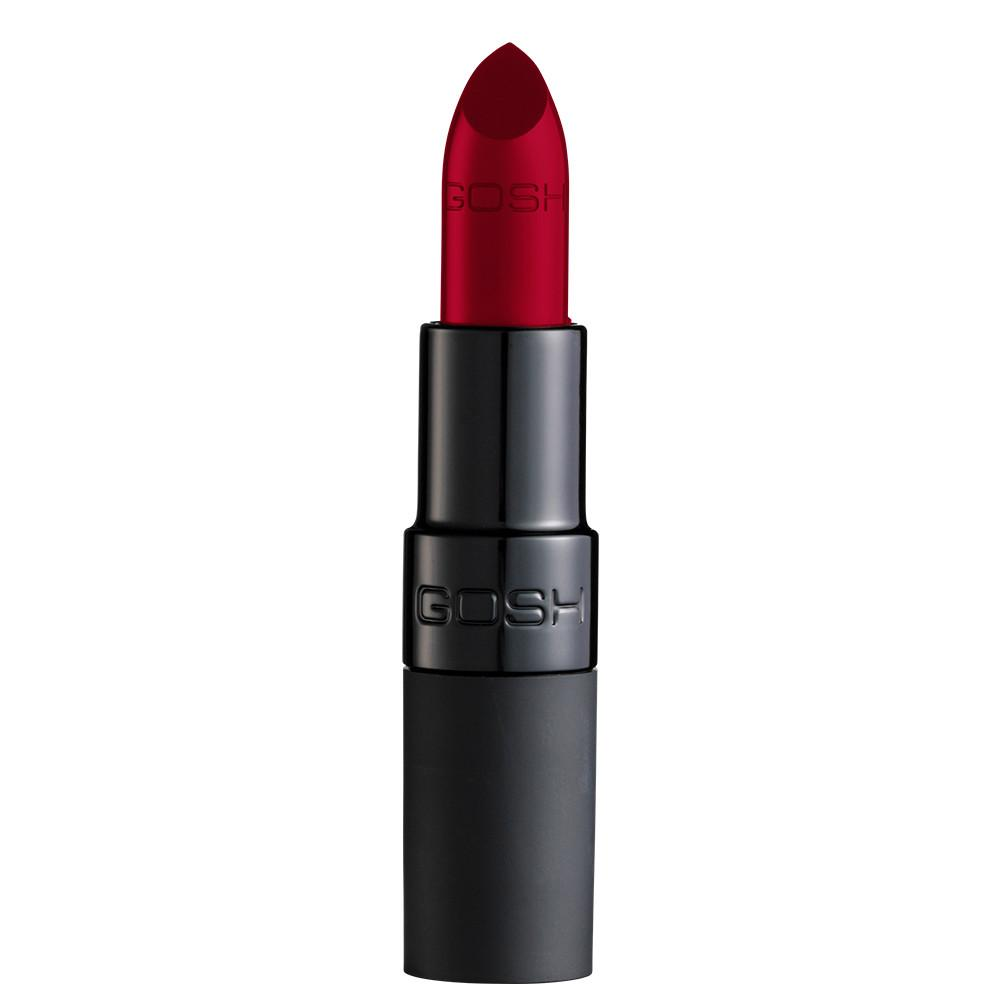lipstick: (341, 28, 645, 940)
